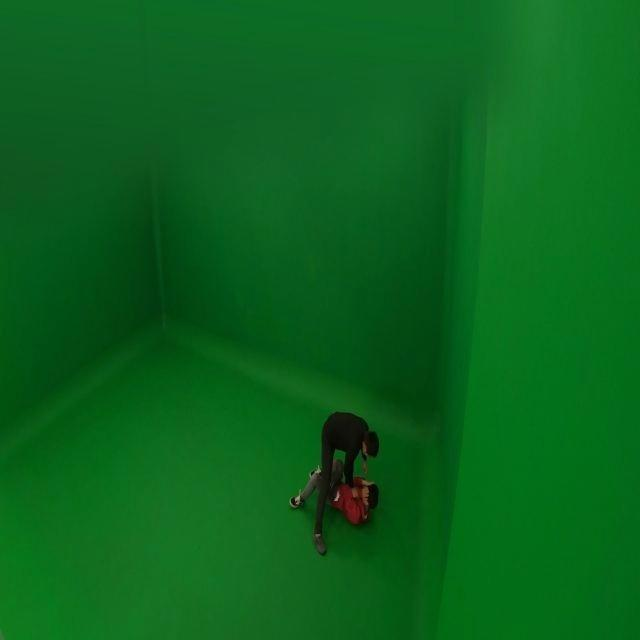fight: (287, 407, 383, 560)
